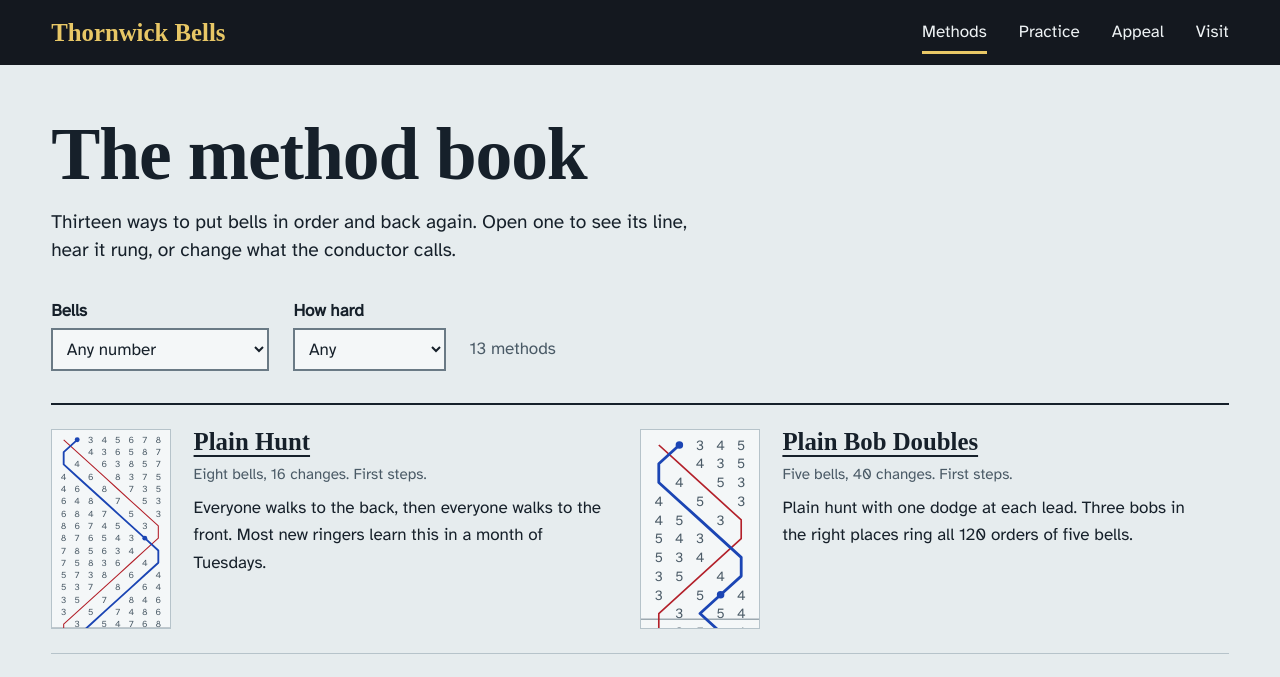
method book › filters and keeps the filter in the address
This screenshot has width=1280, height=677.
Select "Seven bells and a tenor" in the dropdown labelled "Bells" at (160, 349), box x1=51 y1=328 x2=269 y2=371
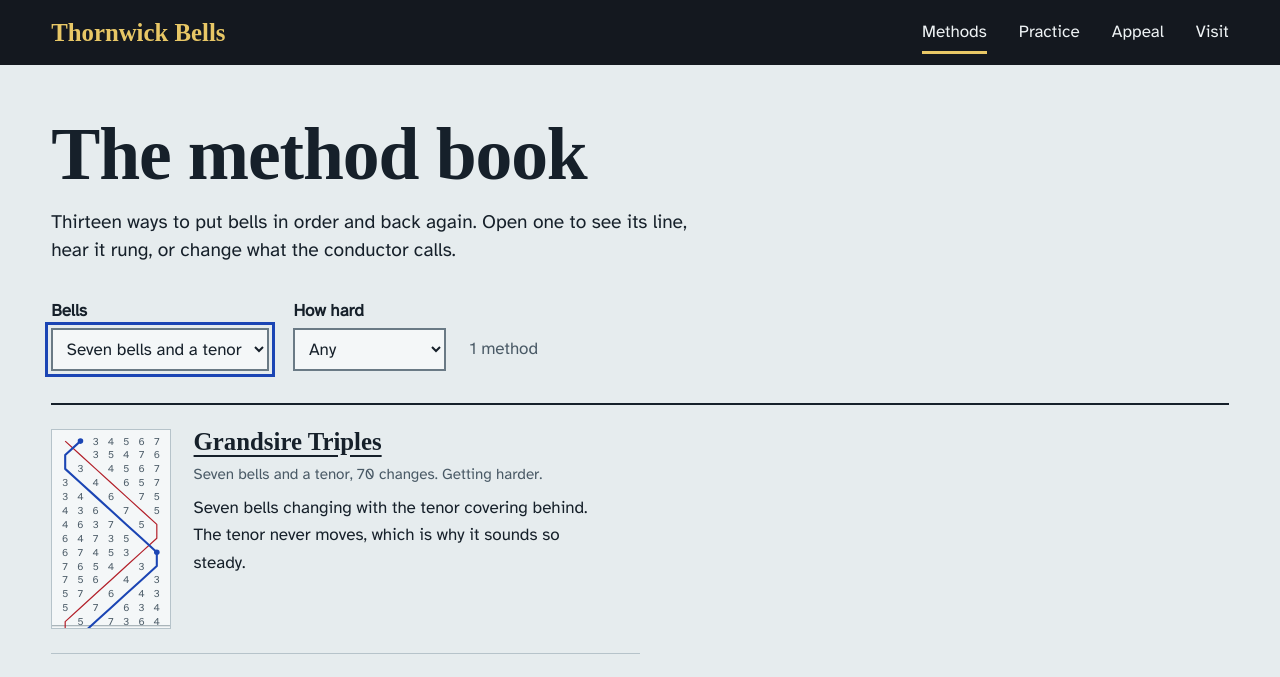
Check: the text "1 method" is shown, box x1=470 y1=338 x2=538 y2=359
